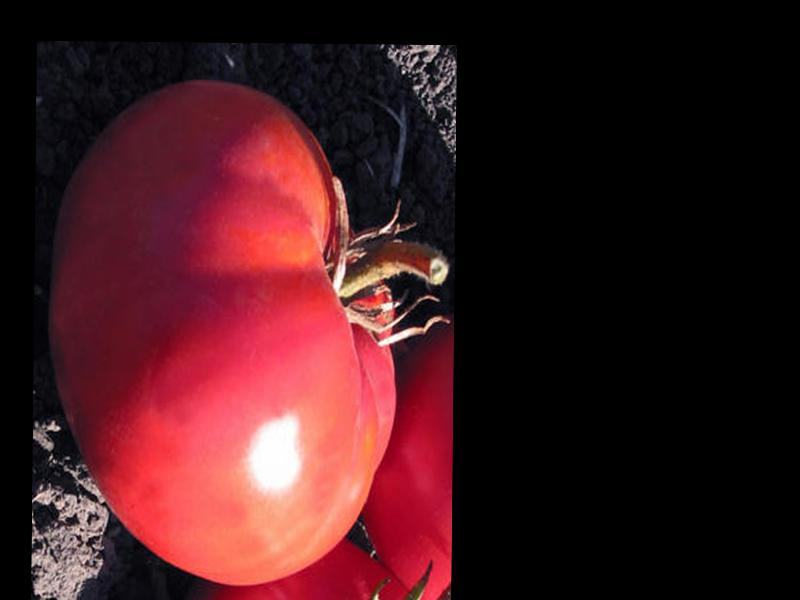Tomato: (46, 77, 396, 587)
